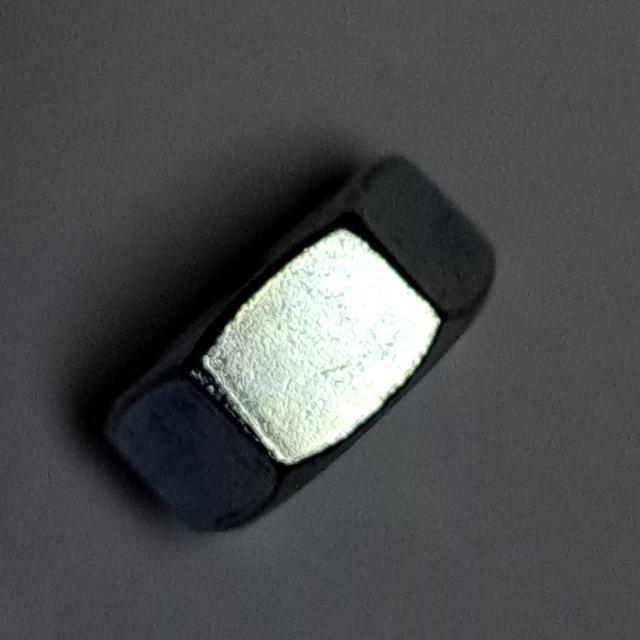Side_Excellent: (89, 147, 513, 547)
